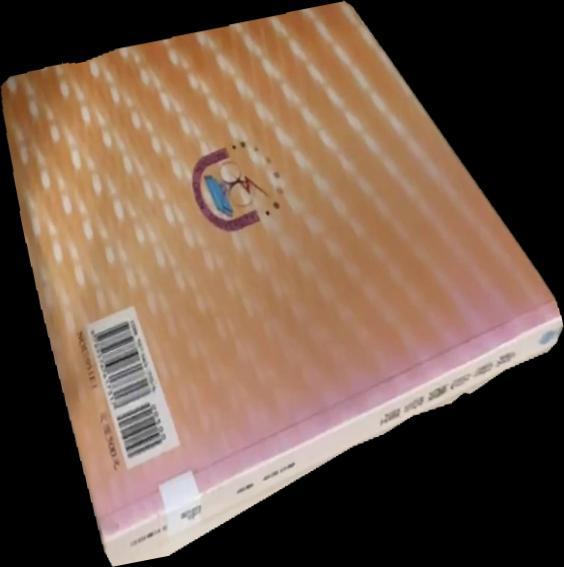flat: (1, 1, 564, 567)
